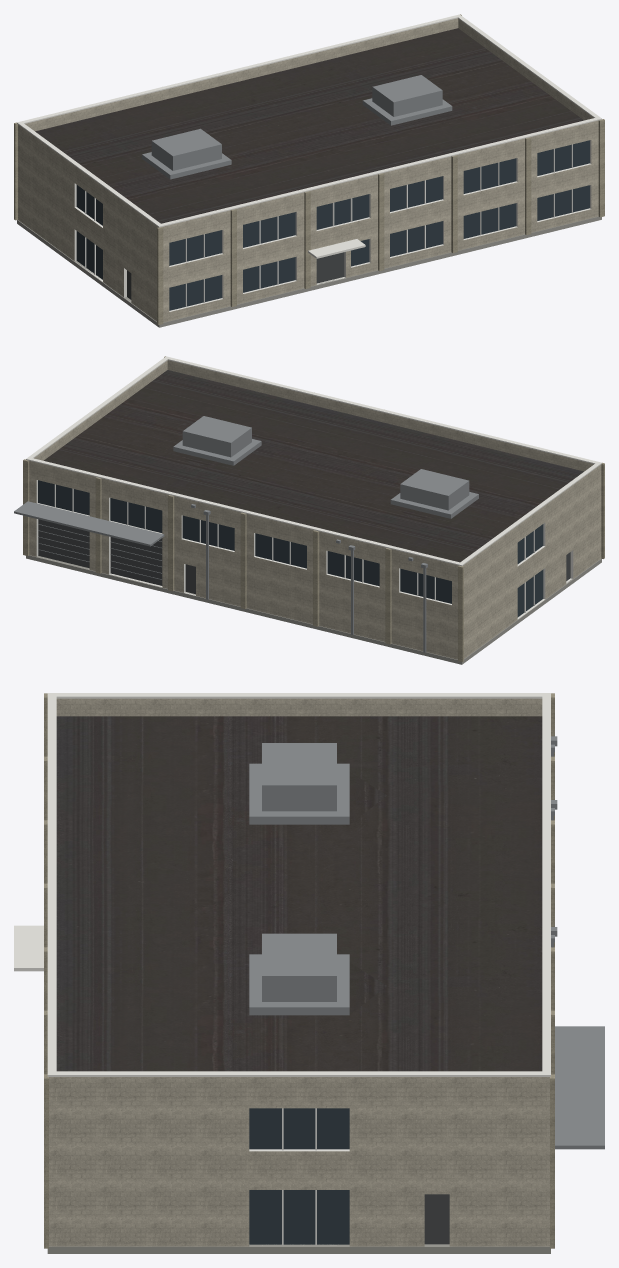
Rendered from office-warehouse.glb.
3 renders of one model, top to bottom at view 1: azimuth 30°, elevation 25°; view 2: azimuth 150°, elevation 25°; view 3: azimuth 270°, elevation 25°, orthographic. The views are drawn at different scales.
Visible parts, largest first — view 1: office-warehouse; view 2: office-warehouse; view 3: office-warehouse.
Part boxes in pixels (box(x1,y1,x2,y2)): office-warehouse: box(14, 14, 604, 327); office-warehouse: box(14, 356, 604, 664); office-warehouse: box(14, 693, 604, 1253).
Size of the model in its own units: 36.4 by 8.5 by 23.6.
9 materials, 3 textured.
